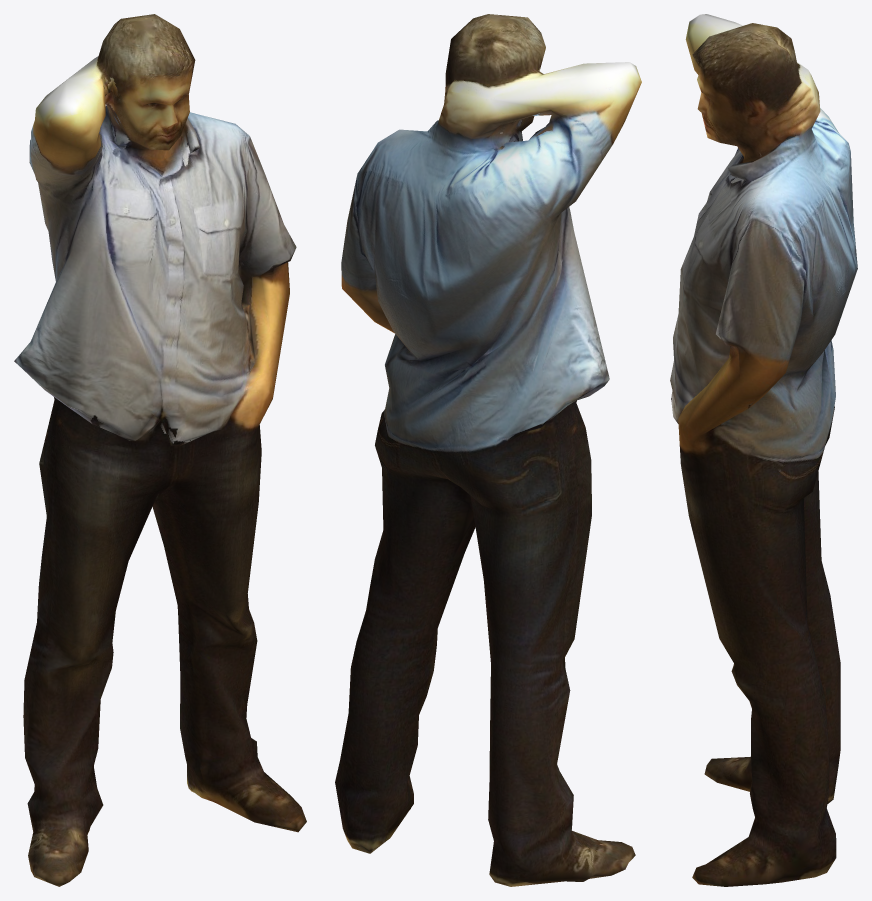
File: person1.glb
The picture shows the model from 3 angles, left to right: view 1: azimuth 30°, elevation 25°; view 2: azimuth 150°, elevation 25°; view 3: azimuth 270°, elevation 25°; orthographic projection. The views are drawn at different scales.
Parts seen in each view (by area): view 1: 05_person.003; view 2: 05_person.003; view 3: 05_person.003.
Part boxes in pixels (x1,y1,x2,y2): 05_person.003: [14, 14, 306, 886]; 05_person.003: [335, 14, 641, 886]; 05_person.003: [670, 14, 857, 886].
Bounding box in the file's own units: 33.67 × 99.93 × 21.26.
Materials: 1 (1 with a texture image).
